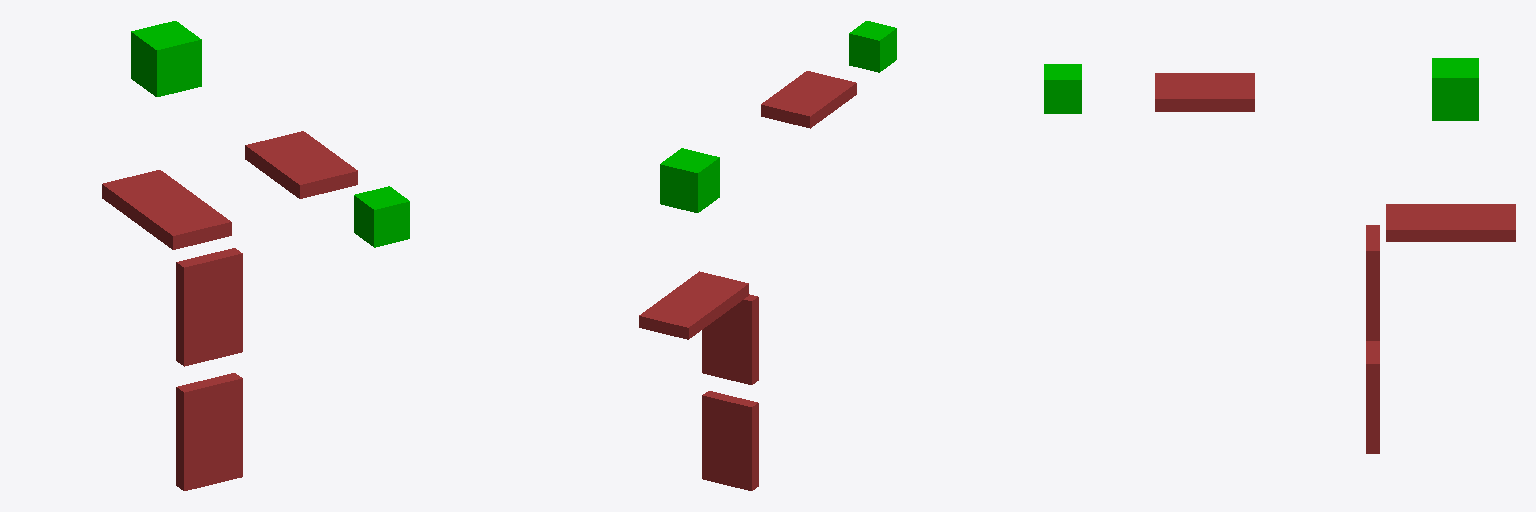
robot.urdf — maze_vertical:
<?xml version="1.0"?>
  <robot name="maze_vertical">
    <link name="base_link"/>

    <link name="table">
      <visual>
        <geometry>
          <mesh filename="file://[local-path]/Desktop/blenderFLEX/maze_vertical.dae" scale = " 0.50 0.50 0.50"/>
        </geometry>
        <origin rpy="0 0 0" xyz="0 0 0" />

<material name = "">
  <color rgba="0.88235294117 0.90588235294 0.96078431372 1"/>
      </material>

      </visual>

      <collision>
        <geometry>
          <mesh filename="file://[local-path]/Desktop/blenderFLEX/maze_vertical.dae" scale = " 0.50 0.50 0.50"/>
        </geometry>
        <origin rpy="0 0 0" xyz="0 0 0" />       
       </collision>
    </link>

    <link name="link_0">
      <visual>
        <geometry>
          <box size="0.1 0.1 0.1"/>
        </geometry>
        <origin rpy="0 0 0" xyz="0 0 0" />
      <material name = "">
          <color rgba="0.0 0.8 0.0 1.0"/>
      </material>
      </visual>
      <collision>
        <geometry>
          <box size="0.1 0.1 0.1"/>
        </geometry>
        <origin rpy="0 0 0" xyz="0 0 0" />       
       </collision>
    </link>

     <link name="link_1">
      <visual>
        <geometry>
          <box size="0.13 0.275 0.03"/>
        </geometry>
        <origin rpy="0 0 0" xyz="0.0 -0.1375 0" />
        <material name = "">
          <color rgba="0.6901 0.2509 0.2509 1.0"/>
      </material>
      </visual>
      <collision>
         <geometry>
          <box size="0.13 0.275 0.03"/>
        </geometry>
        <origin rpy="0 0 0" xyz="0.0 -0.1375 0" />      
       </collision>
    </link>

     <link name="link_2">
      <visual>
      <origin rpy="0 0 0" xyz="0 0 0.105" />
        <geometry>
          <box size="0.13 0.03 0.21"/>
        </geometry>
             <material name = "">
          <color rgba="0.6901 0.2509 0.2509 1.0"/>
      </material>
      </visual>
      <collision>       
        <origin rpy="0 0 0" xyz="0 0 0.105" />
        <geometry>
          <box size="0.13 0.03 0.21"/>
        </geometry>
       </collision>
    </link>


     <link name="link_3">
      <visual>
      <origin rpy="0 0 0" xyz="0 0 0.105" />
        <geometry>
          <box size="0.13 0.03 0.21"/>
        </geometry>
             <material name = "">
          <color rgba="0.6901 0.2509 0.2509 1.0"/>
      </material>
      </visual>
      <collision>       
        <origin rpy="0 0 0" xyz="0 0 0.105" />
        <geometry>
          <box size="0.13 0.03 0.21"/>
        </geometry>
       </collision>
    </link>


  <link name="link_4">
      <visual>
      <origin rpy="0 0 0" xyz="0 -0.105 0" />
        <geometry>
          <box size="0.13 0.21 0.03 "/>
        </geometry>
             <material name = "">
          <color rgba="0.6901 0.2509 0.2509 1.0"/>
      </material>
      </visual>
      <collision>       
        <origin rpy="0 0 0" xyz="0 -0.105 0" />
        <geometry>
          <box size="0.13 0.21 0.03 "/>
        </geometry>
       </collision>
    </link>


    <link name ="cube_x"/>


    <link name="cube_goal">
      <visual>
        <geometry>
          <box size="0.08 0.08 0.08"/>
        </geometry>
        <origin rpy="0 0 0" xyz="0 0 0" />
      <material name = "">
          <color rgba="0.0 0.8 0.0 0.4"/>
      </material>
      </visual>
     </link>


<joint name="table_j" type="fixed">
    <origin rpy="1.57 1.57 -1.57" xyz="1.25 -0.3 1.0" />
    <parent link="base_link" />
    <child link="table" />
    <axis xyz="0 1 0" />
  </joint>

<joint name="goal" type="fixed">
    <origin rpy="0 0 0" xyz="0.75 -0.73 1.3" />
    <parent link="base_link" />
    <child link="cube_goal" />
    </joint>



<joint name="link_0_joint_0" type="prismatic">
    <origin rpy="0 0 0" xyz="0.75 0.1 1.3" />
    <parent link="base_link" />
    <child link="cube_x" />
   <axis xyz="0 1 0" />
  <limit lower="-0.88" upper="0.08" effort="0.05" velocity="1.57"/>
  </joint>


<joint name="link_0_joint_1" type="prismatic">
    <origin rpy="0 0 0" xyz="0.0 0 0.0" />
    <parent link="cube_x" />
    <child link="link_0" />
   <axis xyz="0 0 1" />
  <limit lower="-0.78" upper="0.1" effort="0.05" velocity="1.57"/>
  </joint>


    <joint name="link_1_joint_0" type="revolute">
        <origin rpy="0 0 0" xyz="0.745 0.2275 0.985"/>
        <parent link="base_link"/>
        <child link="link_1"/>
        <axis xyz="1 0 0"/>
        <limit lower="-1.57" upper="1.57" effort="0.05" velocity="1.57"/>
    </joint>


    <joint name="link_2_joint_0" type="revolute">
        <origin rpy="0 0 0" xyz="0.745 -0.075 0.74"/>
        <parent link="base_link"/>
        <child link="link_2"/>
        <axis xyz="1 0 0"/>
        <limit lower="-1.57" upper="1.57" effort="0.05" velocity="1.57"/>
    </joint>


 <joint name="link_3_joint_0" type="revolute">
        <origin rpy="0 0 0" xyz="0.745 -0.075 0.475"/>
        <parent link="base_link"/>
        <child link="link_3"/>
        <axis xyz="1 0 0"/>
        <limit lower="-1.57" upper="1.57" effort="0.05" velocity="1.57"/>
    </joint>



     <joint name="link_4_joint_0" type="revolute">
        <origin rpy="0 0 0" xyz="0.745 -0.325 1.29"/>
        <parent link="base_link"/>
        <child link="link_4"/>
        <axis xyz="1 0 0"/>
        <limit lower="-1.57" upper="0.00" effort="0.05" velocity="1.57"/>
    </joint>

</robot>

--- Render facts (derived) ---
The picture shows the robot from 3 angles, left to right: view 1: azimuth 30°, elevation 25°; view 2: azimuth 150°, elevation 25°; view 3: azimuth 270°, elevation 25°; orthographic projection.
Model maze_vertical with 9 links and 8 joints (4 revolute, 2 prismatic, 2 fixed), rooted at base_link, posed all joints at 0.
Links seen in each view (by area): view 1: link_2, link_3, link_1, link_4, link_0, cube_goal; view 2: link_3, link_1, link_2, link_4, link_0, cube_goal; view 3: link_1, link_4, link_0, cube_goal, link_2, link_3.
Boxes of the visible links, <box> form: link_2: <box>176,248,242,366</box>; link_3: <box>176,373,242,490</box>; link_1: <box>102,170,231,249</box>; link_4: <box>245,131,357,198</box>; link_0: <box>131,21,201,96</box>; cube_goal: <box>354,186,409,247</box>; link_3: <box>702,391,758,490</box>; link_1: <box>639,271,748,339</box>; link_2: <box>702,294,758,384</box>; link_4: <box>761,71,856,128</box>; link_0: <box>660,148,719,212</box>; cube_goal: <box>849,21,896,72</box>; link_1: <box>1386,204,1515,241</box>; link_4: <box>1155,73,1254,111</box>; link_0: <box>1432,58,1478,120</box>; cube_goal: <box>1044,64,1081,113</box>; link_2: <box>1366,225,1379,340</box>; link_3: <box>1366,341,1379,453</box>.
Bounding box of the posed robot: 0.13 × 0.9975 × 0.875 m (x, y, z).
Geometry: only primitive shapes (box / cylinder / sphere) drawn; not drawn: 1 mesh visual (reference in a form the renderer does not follow).